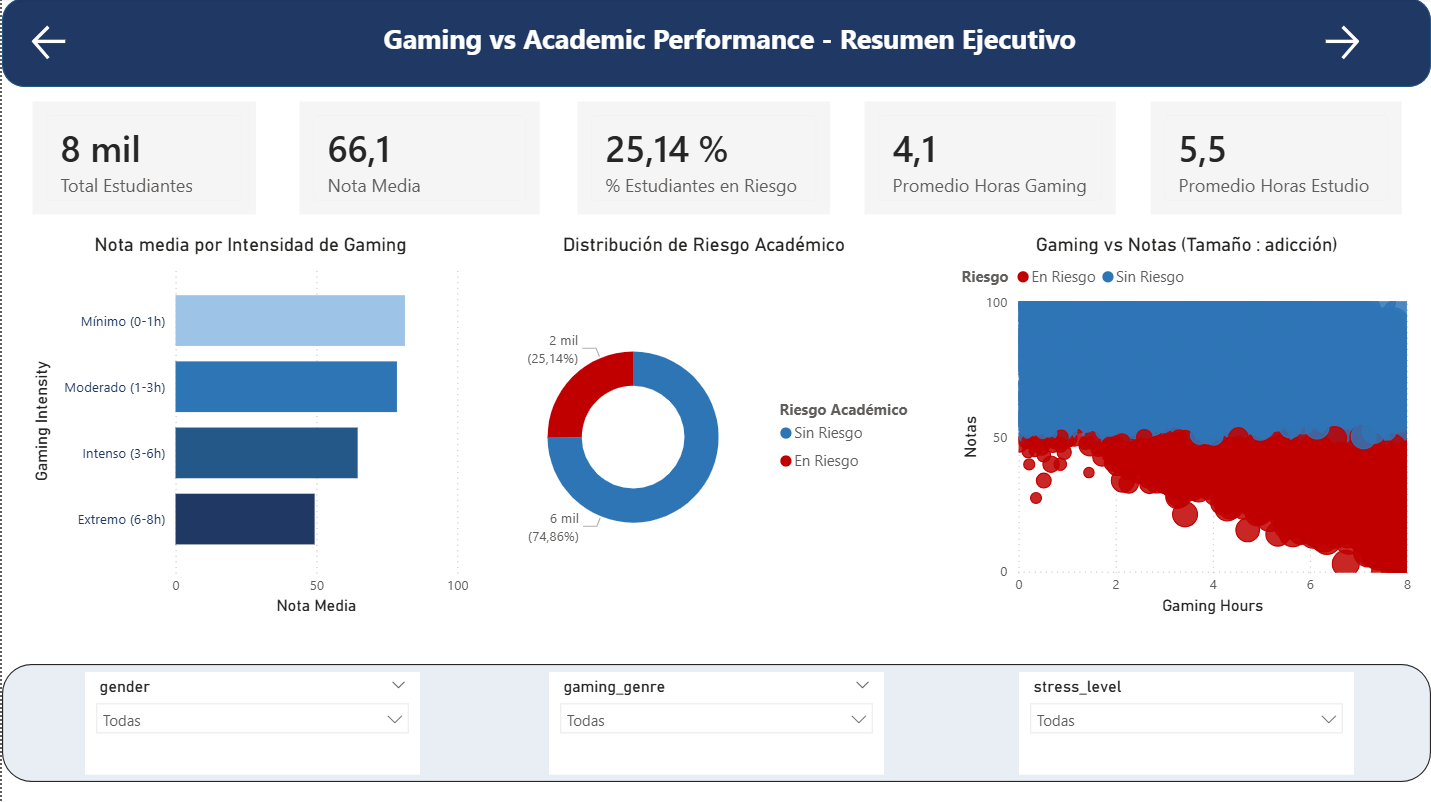

The page's visual inventory and layout, read from the dashboard file:
{"tool":"powerbi","page":{"name":"Resumen Ejecutivo","canvas":[1280,720],"ordinal":0},"visuals":[{"type":"shape","box":[0,0,1279.7,79.7],"z":0},{"type":"textbox","box":[336.7,14.3,666.3,51.9],"z":1000},{"type":"cardVisual","fields":{"Data":["_Medidas.TotalEstudiantes"]},"box":[22.4,87.8,210.4,111],"z":2000},{"type":"cardVisual","fields":{"Data":["_Medidas.NotaMedia"]},"box":[261.5,87.8,225.7,111],"z":3000},{"type":"cardVisual","fields":{"Data":["_Medidas.%EnRiesgo"]},"box":[510.4,87.8,236.4,111],"z":4000},{"type":"cardVisual","fields":{"Data":["_Medidas.HorasEstudioMedia"]},"box":[1023.6,87.8,235.5,111],"z":5000},{"type":"cardVisual","fields":{"Data":["_Medidas.GamingHorasMedia"]},"box":[767.5,87.8,235.5,111],"z":6000},{"type":"clusteredBarChart","title":"Nota media por Intensidad de Gaming","fields":{"Category":["GAP.gaming_intensity"],"Y":["_Medidas.NotaMedia"]},"box":[22.4,210.4,400.3,346.6],"z":7000},{"type":"donutChart","title":"Distribución de Riesgo Académico","fields":{"Y":["_Medidas.TotalEstudiantes"],"Category":["GAP.risk_flag"]},"box":[429,210.4,399.4,346.6],"z":8000},{"type":"scatterChart","title":"Gaming vs Notas (Tamaño : adicción)","fields":{"X":["GAP.gaming_hours"],"Y":["GAP.grades"],"Series":["GAP.risk_flag"],"Size":["Sum(GAP.addiction_score)"]},"box":[854.3,210.4,412.8,346.6],"z":9000},{"type":"shape","box":[0,596.4,1279.7,105.7],"z":9001},{"type":"slicer","fields":{"Values":["GAP.gender"]},"box":[74.3,603.6,300,92.2],"z":9002},{"type":"slicer","fields":{"Values":["GAP.gaming_genre"]},"box":[489.9,603.6,300,92.2],"z":9003},{"type":"slicer","fields":{"Values":["GAP.stress_level"]},"box":[910.7,603.6,300,92.2],"z":9004}]}

Visuals, with their boxes in screenshot pixels (x1, y1, x2, y2), scaled from the page's 1280x720 canvas onto the 1431x802 screenshot:
shape: bbox(0, 0, 1430, 89)
textbox: bbox(376, 16, 1121, 74)
cardVisual - _Medidas.TotalEstudiantes: bbox(25, 98, 260, 221)
cardVisual - _Medidas.NotaMedia: bbox(292, 98, 545, 221)
cardVisual - _Medidas.%EnRiesgo: bbox(571, 98, 835, 221)
cardVisual - _Medidas.HorasEstudioMedia: bbox(1144, 98, 1408, 221)
cardVisual - _Medidas.GamingHorasMedia: bbox(858, 98, 1121, 221)
"Nota media por Intensidad de Gaming" clusteredBarChart: bbox(25, 234, 473, 620)
"Distribución de Riesgo Académico" donutChart: bbox(480, 234, 926, 620)
"Gaming vs Notas (Tamaño : adicción)" scatterChart: bbox(955, 234, 1417, 620)
shape: bbox(0, 664, 1430, 782)
slicer - GAP.gender: bbox(83, 672, 418, 775)
slicer - GAP.gaming_genre: bbox(548, 672, 883, 775)
slicer - GAP.stress_level: bbox(1018, 672, 1354, 775)
